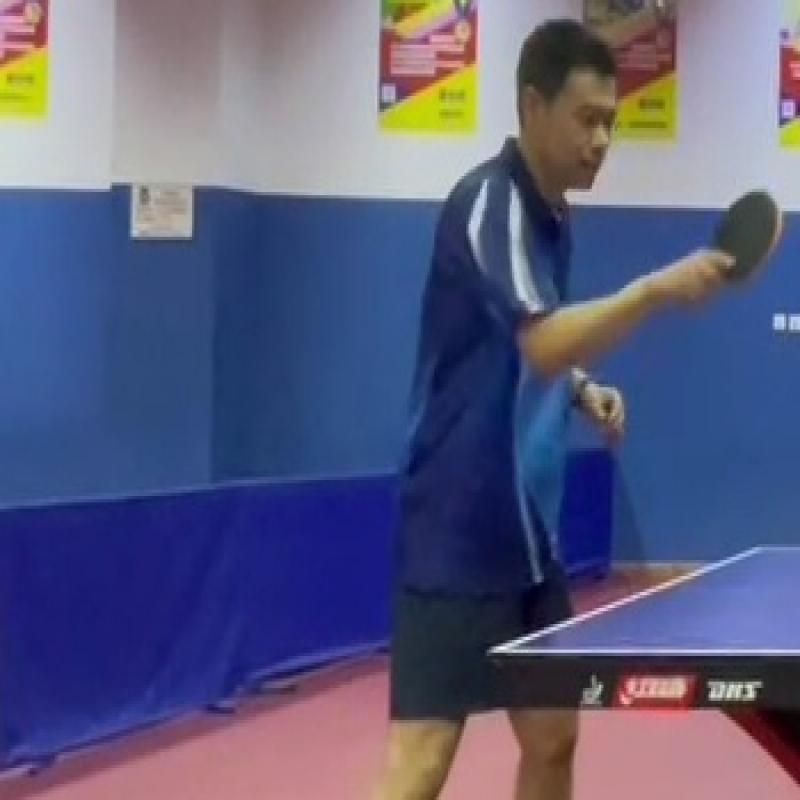bats: (704, 180, 787, 303)
